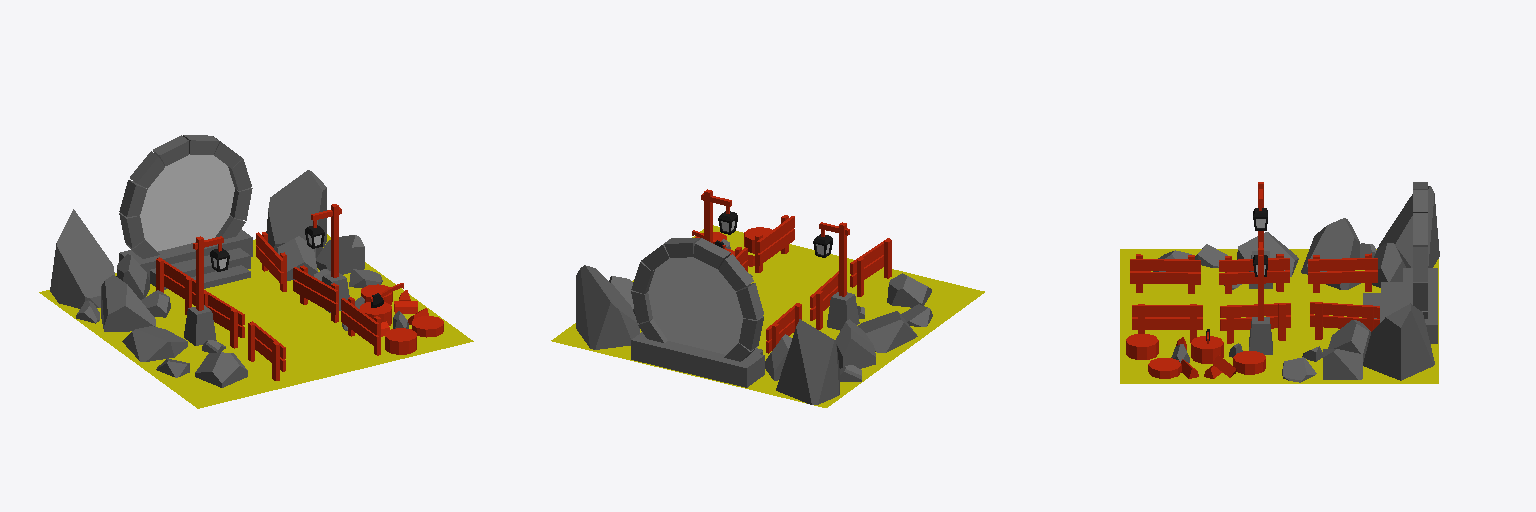
File: portal.obj
3 views of the same model, side by side, from view 1: azimuth 30°, elevation 25°; view 2: azimuth 150°, elevation 25°; view 3: azimuth 270°, elevation 25° (orthographic).
Parts seen in each view (by area): view 1: Plane, Circle, Cube.021, Cube.020, Cube.022, Cube.027, Cube.016, Cube.001, Cube.026, Cube, Cube.024, Cube.005 (+18 smaller); view 2: Plane, Circle, Cube.020, Cube.021, Cube.016, Cube.027, Cube.022, Cube.005, Cube, Cube.026, Cube.012, Cube.003 (+9 smaller); view 3: Plane, Cube.020, Cube.005, Cube.003, Cube, Cube.021, Cube.004, Cube.001, Cube.002, Cube.022, Cube.024, Cube.016 (+11 smaller).
Boxes of the visible parts, x1,y1,x2,y2 form: Plane: [39, 234, 473, 408]; Circle: [140, 154, 234, 251]; Cube.021: [50, 209, 114, 308]; Cube.020: [266, 170, 326, 257]; Cube.022: [101, 275, 155, 331]; Cube.027: [122, 326, 187, 361]; Cube.016: [119, 229, 252, 279]; Cube.001: [293, 265, 338, 322]; Cube.026: [195, 352, 247, 387]; Cube: [341, 297, 380, 355]; Cube.024: [316, 235, 364, 274]; Cube.005: [248, 321, 285, 380]; Plane: [551, 225, 984, 407]; Circle: [648, 257, 743, 354]; Cube.020: [576, 265, 639, 349]; Cube.021: [776, 319, 839, 404]; Cube.016: [631, 332, 764, 387]; Cube.027: [858, 311, 917, 352]; Cube.022: [835, 319, 875, 368]; Cube.005: [850, 238, 891, 296]; Cube: [755, 215, 794, 272]; Cube.026: [887, 273, 931, 307]; Cube.012: [827, 292, 859, 330]; Cube.003: [766, 303, 801, 353]; Plane: [1120, 249, 1438, 383]; Cube.020: [1363, 303, 1434, 380]; Cube.005: [1130, 254, 1200, 293]; Cube.003: [1308, 253, 1377, 292]; Cube: [1132, 304, 1202, 342]; Cube.021: [1378, 186, 1439, 267]; Cube.004: [1219, 254, 1289, 293]; Cube.001: [1220, 303, 1290, 343]; Cube.002: [1310, 302, 1379, 339]; Cube.022: [1301, 218, 1359, 274]; Cube.024: [1323, 349, 1362, 379]; Cube.016: [1403, 268, 1437, 343].
Size of the model in its own units: 4 by 1.85 by 4.01.